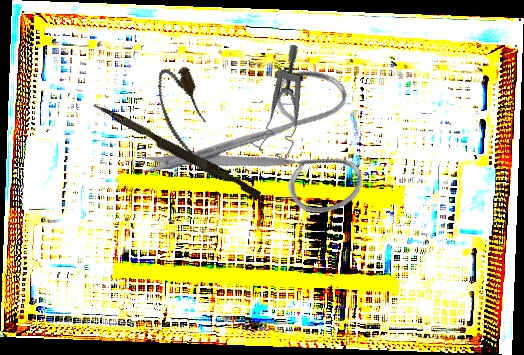Cannula: (149, 61, 225, 185)
Iris Scissors: (129, 16, 406, 295)
Pusher: (89, 101, 264, 200)
Speculum: (241, 42, 334, 164)
